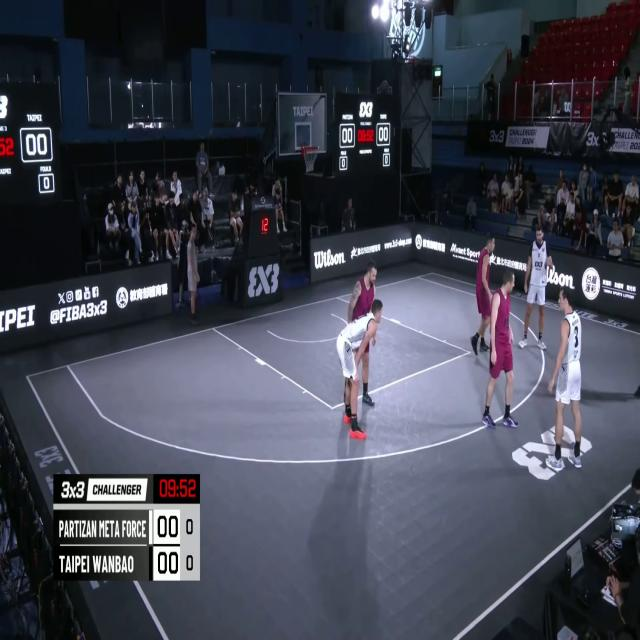hoop: (302, 142, 319, 176)
player: (336, 298, 385, 440), (546, 284, 582, 475), (483, 268, 517, 434), (347, 263, 378, 417), (522, 221, 554, 348), (472, 231, 497, 358)
